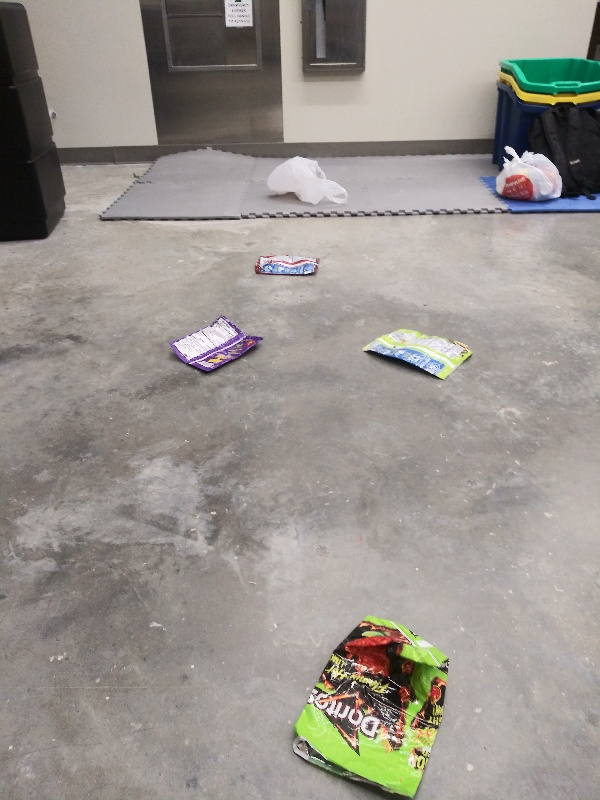bag: (288, 612, 455, 800), (354, 326, 477, 385), (165, 311, 271, 375), (252, 249, 323, 280)
